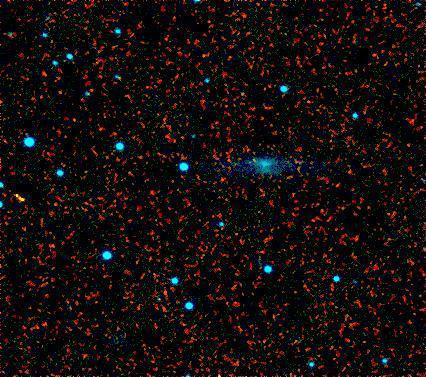star: (5, 182, 35, 212)
